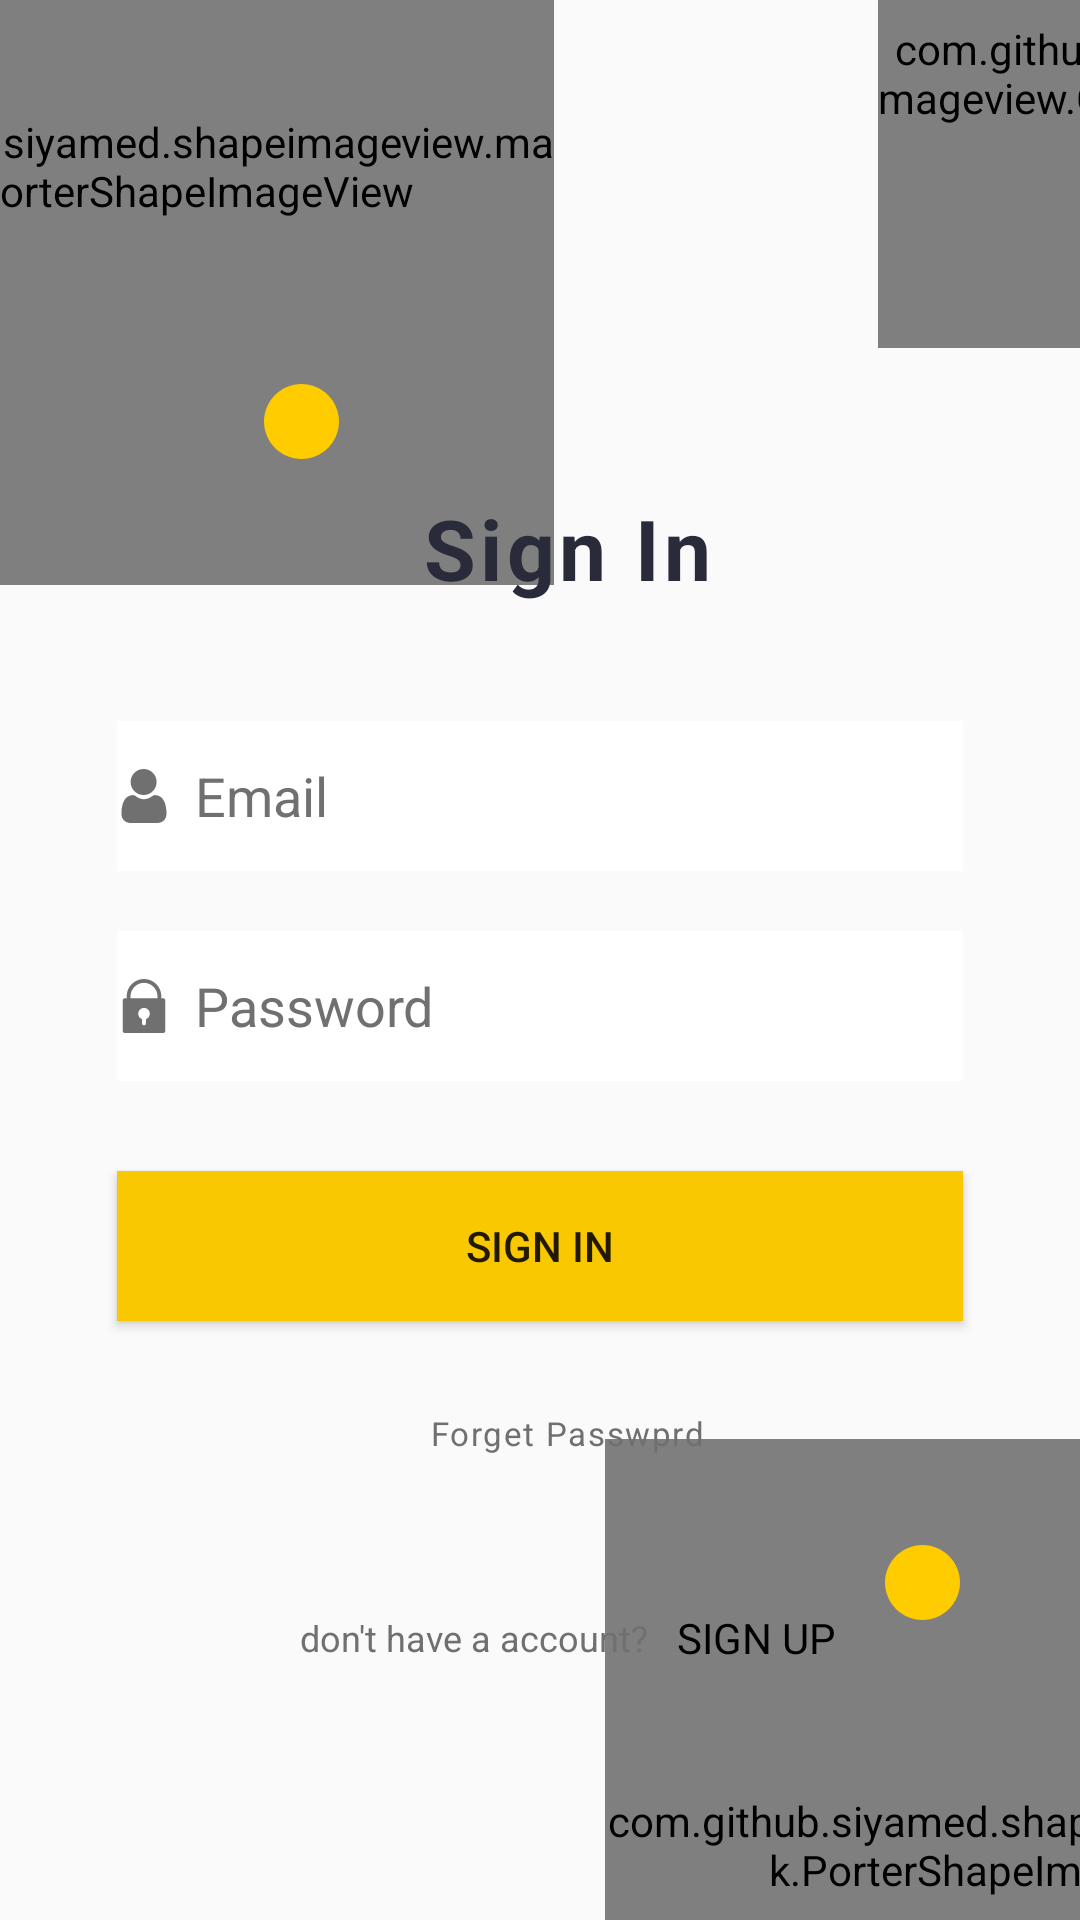

Named icons in this screenshot (1080px x 1920px) and their bounding boxes, box(x1, y1, x2, y2):
circle: box(264, 384, 339, 459), box(885, 1545, 960, 1620)
